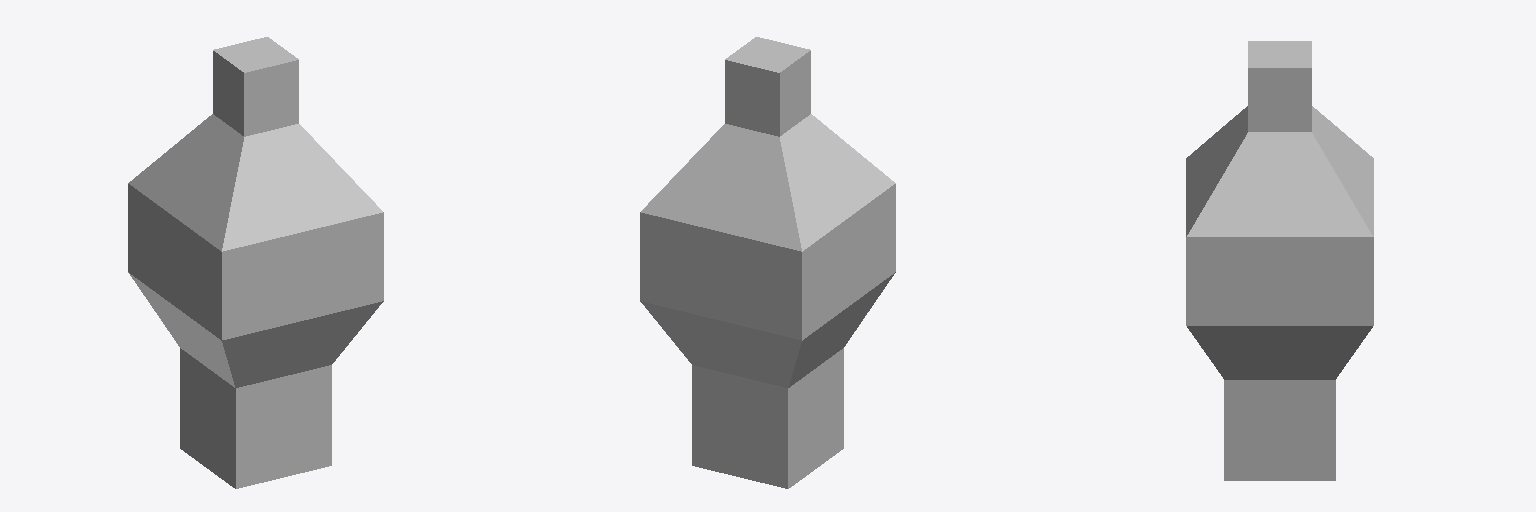
Rendered from thang.obj.
3 renders of one model, left to right at view 1: azimuth 30°, elevation 25°; view 2: azimuth 150°, elevation 25°; view 3: azimuth 270°, elevation 25°, orthographic.
Visible parts, largest first — view 1: Cube; view 2: Cube; view 3: Cube.
Part boxes in pixels (x1,y1,x2,y2): Cube: (128, 37, 383, 488); Cube: (640, 37, 895, 488); Cube: (1186, 41, 1373, 480).
Size of the model in its own units: 3.36 by 7.97 by 3.36.